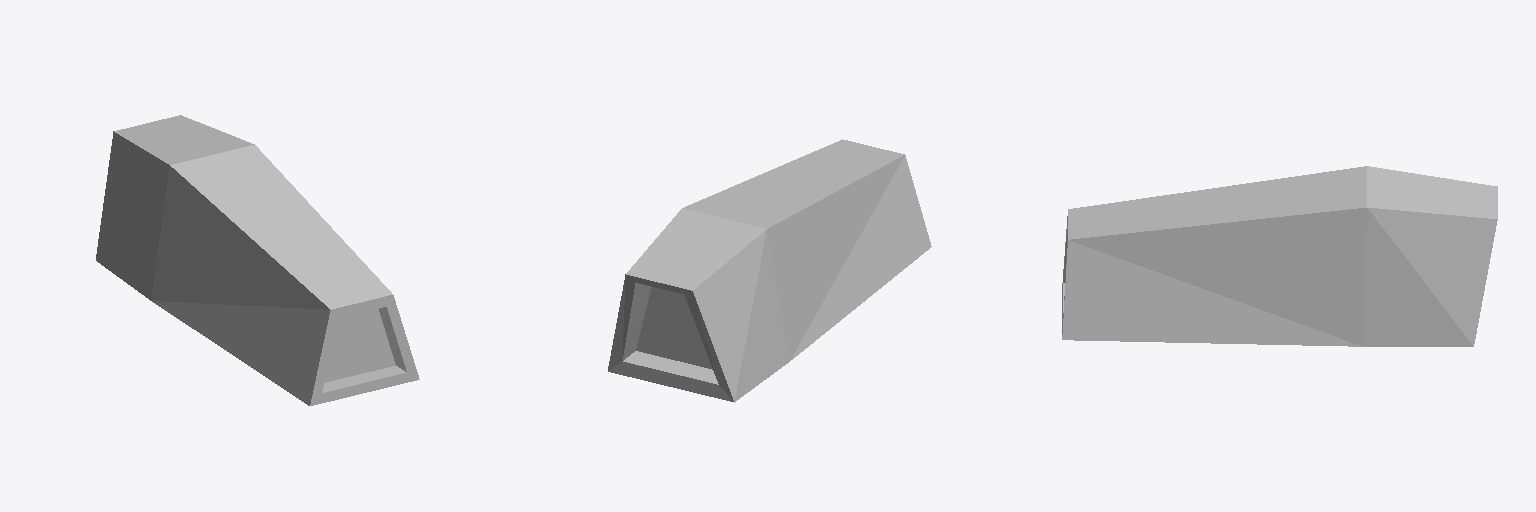
The model's file is sniper_scope.obj.
3 views of the same model, side by side, from view 1: azimuth 30°, elevation 25°; view 2: azimuth 150°, elevation 25°; view 3: azimuth 270°, elevation 25° (orthographic).
Visible parts, largest first — view 1: sniper_scope; view 2: sniper_scope, sniper_scope_window; view 3: sniper_scope.
Boxes of the visible parts, box(x1,y1,x2,y2) form: sniper_scope: box(96, 115, 419, 405); sniper_scope: box(608, 139, 931, 402); sniper_scope_window: box(636, 287, 712, 369); sniper_scope: box(1062, 166, 1497, 346).
Bounding box in the file's own units: 7.8 × 8.14 × 23.2.